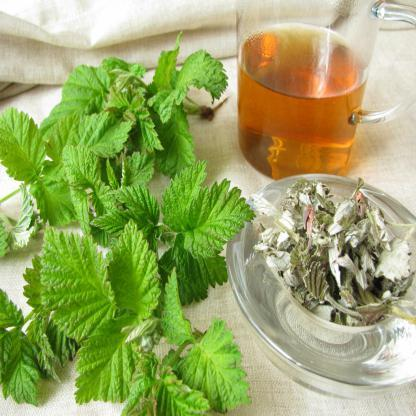Raspberry leaf: (44, 226, 126, 336), (181, 316, 251, 416), (72, 320, 148, 406), (181, 176, 255, 254), (110, 219, 159, 318), (1, 107, 48, 186), (162, 159, 206, 228), (30, 174, 83, 227), (43, 113, 80, 172)
